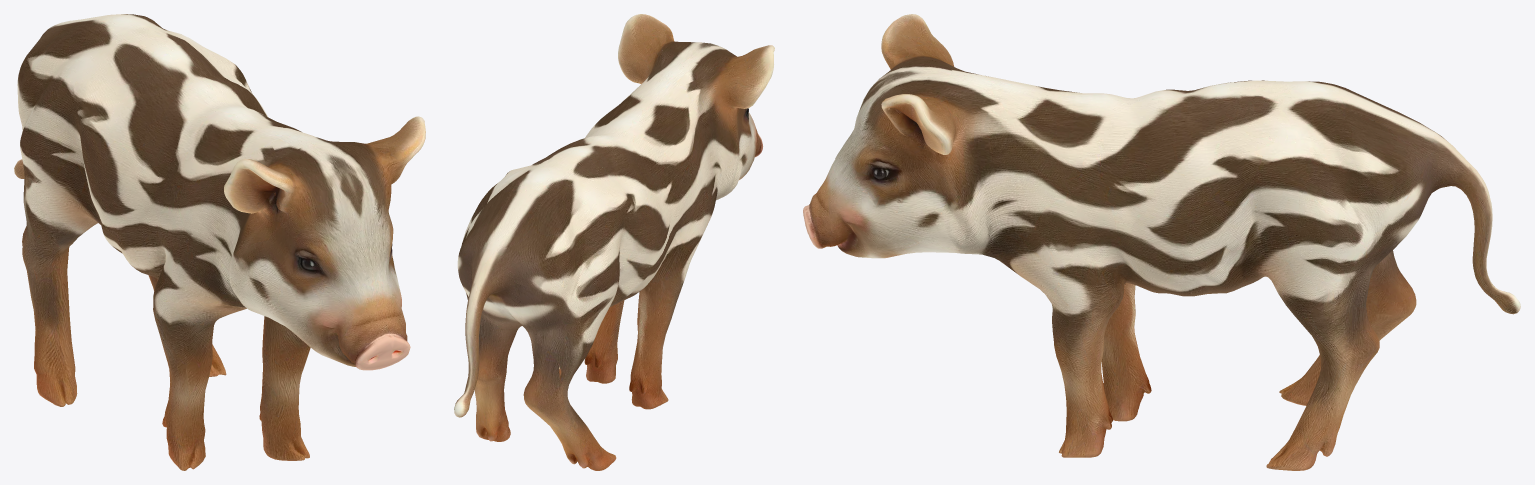
The model's file is animal-frisling-piglet.glb.
3 renders of one model, left to right at view 1: azimuth 30°, elevation 25°; view 2: azimuth 150°, elevation 25°; view 3: azimuth 270°, elevation 25°, orthographic. The views are drawn at different scales.
Bounding box in the file's own units: 0.574 × 1.11 × 1.91.
Materials: 1 (1 with a texture image).
